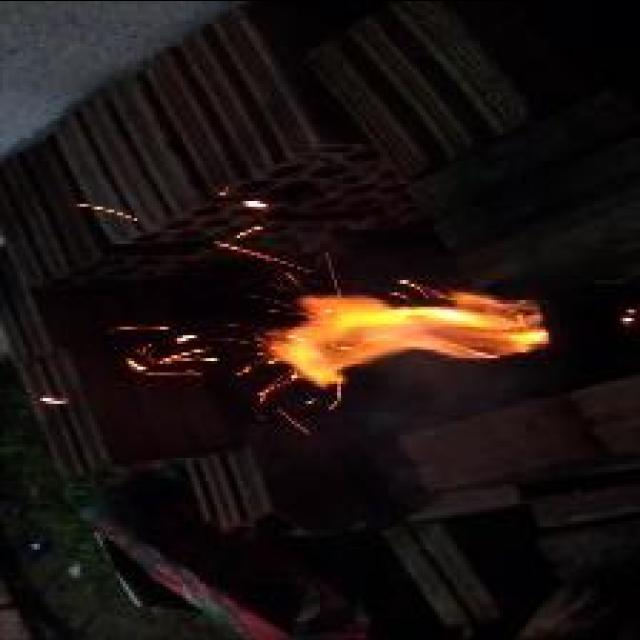Fire: (254, 282, 552, 389)
